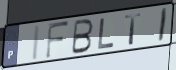B: (70, 18, 95, 56)
F: (45, 20, 71, 61)
I: (157, 7, 170, 45), (30, 23, 42, 62)
L: (97, 17, 116, 51)
T: (124, 12, 143, 47)
